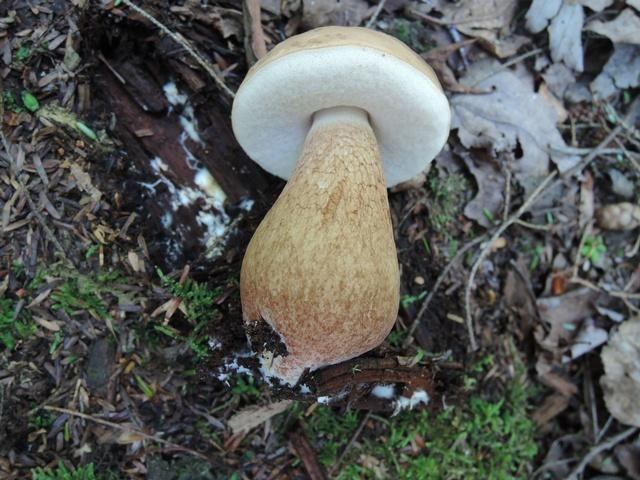poisonous_mushroom: (228, 24, 452, 392)
